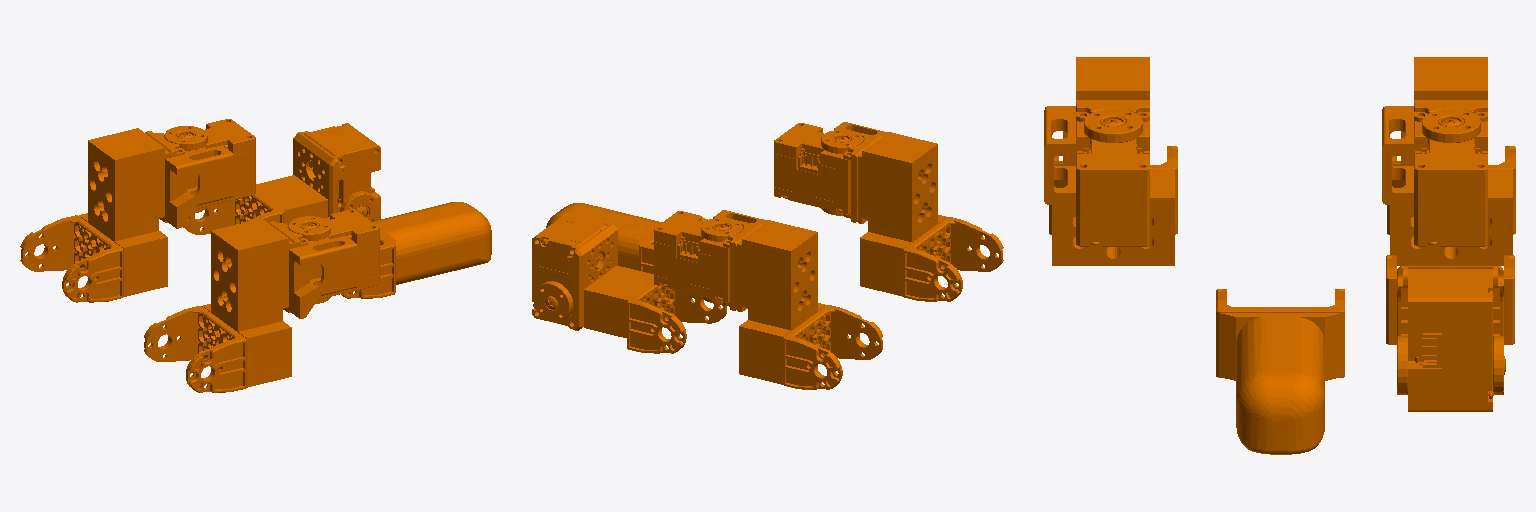
The robot description file, URDF, robot "onshape":
<robot name="onshape">
  <link name="palm_lower">
    <inertial>
      <origin xyz="0.0 0.0 0.0" rpy="0.0 -0.0 0.0"/>
      <mass value="0.237"/>
      <inertia ixx="0.000354094" ixy="-1.193e-06" ixz="-2.445e-06" iyy="0.000260915" iyz="-2.905e-06" izz="0.000529257"/>
    </inertial>
    <visual>
      <geometry>
        <mesh filename="../assets/leap/leap_hand/palm_lower.stl"/>
      </geometry>
      <origin xyz="-0.020095249652862544 0.025757756134899473 -0.034722403578460216" rpy="0.0 -0.0 0.0"/>
      <material name="palm_lower_material">
        <color rgba="0.6039215686274509 0.14901960784313725 0.14901960784313725 1.0"/>
      </material>
    </visual>
    <collision>
      <geometry>
        <mesh filename="../assets/leap/leap_hand/palm_lower.stl"/>
      </geometry>
      <origin xyz="-0.020095249652862544 0.025757756134899473 -0.034722403578460216" rpy="0.0 -0.0 0.0"/>
    </collision>
  </link>
  <link name="mcp_joint_long">
    <inertial>
      <origin xyz="0.0 0.0 0.0" rpy="0.0 -0.0 0.0"/>
      <mass value="0.044"/>
      <inertia ixx="1.1499e-05" ixy="3.049e-06" ixz="1.21e-07" iyy="7.796e-06" iyz="1.12e-07" izz="1.4759e-05"/>
    </inertial>
    <visual>
      <geometry>
        <mesh filename="custom_models/mcp_joint_long.stl"/>
      </geometry>
      <origin xyz="0.008406902261174496 0.0077662438597169954 0.014657354985032912" rpy="1.6375789613221e-15 -1.021047330249102e-30 1.7177968783327987e-31"/>
      <material name="mcp_joint_material">
        <color rgba="0.878 0.467 0.0 1.0"/>
      </material>
    </visual>
    <collision>
      <geometry>
        <mesh filename="custom_models/mcp_joint_long.stl"/>
      </geometry>
      <origin xyz="0.008406902261174496 0.0077662438597169954 0.014657354985032912" rpy="1.6375789613221e-15 -1.021047330249102e-30 1.7177968783327987e-31"/>
    </collision>
  </link>
  <link name="pip">
    <inertial>
      <origin xyz="0.0 0.0 0.0" rpy="0.0 -0.0 0.0"/>
      <mass value="0.032"/>
      <inertia ixx="4.798e-06" ixy="1.2e-08" ixz="4e-09" iyy="2.862e-06" iyz="1.1e-08" izz="4.234e-06"/>
    </inertial>
    <visual>
      <geometry>
        <mesh filename="../assets/leap/leap_hand/pip.stl"/>
      </geometry>
      <origin xyz="0.009643363092271328 0.0002999999999999895 0.0007840340104173765" rpy="-1.5707963267948966 -1.5707963267948963 0.0"/>
      <material name="pip_material">
        <color rgba="0.7490196078431373 0.7490196078431373 0.7490196078431373 1.0"/>
      </material>
    </visual>
    <collision>
      <geometry>
        <mesh filename="../assets/leap/leap_hand/pip.stl"/>
      </geometry>
      <origin xyz="0.009643363092271328 0.0002999999999999895 0.0007840340104173765" rpy="-1.5707963267948966 -1.5707963267948963 0.0"/>
    </collision>
  </link>
  <link name="dip_long">
    <inertial>
      <origin xyz="0.0 0.0 0.0" rpy="0.0 -0.0 0.0"/>
      <mass value="0.037"/>
      <inertia ixx="5.542e-06" ixy="-6.07e-07" ixz="-1.7e-08" iyy="5.727e-06" iyz="-2.3e-08" izz="6.682e-06"/>
    </inertial>
    <visual>
      <geometry>
        <mesh filename="custom_models/dip_long.stl"/>
      </geometry>
      <origin xyz="0.021133352895225003 -0.00843211914670488 0.00978508816209524" rpy="-3.141592653589793 4.507511124216441e-32 4.439548105392361e-32"/>
      <material name="dip_material">
        <color rgba="0.878 0.467 0.0 1.0"/>
      </material>
    </visual>
    <collision>
      <geometry>
        <mesh filename="custom_models/dip_long.stl"/>
      </geometry>
      <origin xyz="0.021133352895225003 -0.00843211914670488 0.00978508816209524" rpy="-3.141592653589793 4.507511124216441e-32 4.439548105392361e-32"/>
    </collision>
  </link>
  <link name="fingertip">
    <inertial>
      <origin xyz="0.0 0.0 0.0" rpy="0.0 -0.0 0.0"/>
      <mass value="0.016"/>
      <inertia ixx="3.368e-06" ixy="1.15e-07" ixz="0.0" iyy="1.556e-06" iyz="0.0" izz="2.863e-06"/>
    </inertial>
    <visual>
      <geometry>
        <mesh filename="../assets/leap/leap_hand/fingertip.stl"/>
      </geometry>
      <origin xyz="0.013286424108533503 -0.006114238386541987 0.014499999999999498" rpy="3.141592653589793 1.1993117970061735e-33 4.439548105392361e-32"/>
      <material name="fingertip_material">
        <color rgba="0.8666666666666667 0.8666666666666667 0.050980392156862744 1.0"/>
      </material>
    </visual>
    <collision>
      <geometry>
        <mesh filename="../assets/leap/leap_hand/fingertip.stl"/>
      </geometry>
      <origin xyz="0.013286424108533503 -0.006114238386541987 0.014499999999999498" rpy="3.141592653589793 1.1993117970061735e-33 4.439548105392361e-32"/>
    </collision>
  </link>
  <link name="pip_4">
    <inertial>
      <origin xyz="0.0 0.0 0.0" rpy="0.0 -0.0 0.0"/>
      <mass value="0.032"/>
      <inertia ixx="4.798e-06" ixy="1.2e-08" ixz="4e-09" iyy="2.862e-06" iyz="1.1e-08" izz="4.234e-06"/>
    </inertial>
    <visual>
      <geometry>
        <mesh filename="../assets/leap/leap_hand/pip.stl"/>
      </geometry>
      <origin xyz="-0.005356636907728671 0.0002999999999999999 0.0007840340104173782" rpy="-1.5707963267948966 -1.5707963267948963 0.0"/>
      <material name="pip_material">
        <color rgba="0.7490196078431373 0.7490196078431373 0.7490196078431373 1.0"/>
      </material>
    </visual>
    <collision>
      <geometry>
        <mesh filename="../assets/leap/leap_hand/pip.stl"/>
      </geometry>
      <origin xyz="-0.005356636907728671 0.0002999999999999999 0.0007840340104173782" rpy="-1.5707963267948966 -1.5707963267948963 0.0"/>
    </collision>
  </link>
  <link name="thumb_pip">
    <inertial>
      <origin xyz="0.0 0.0 0.0" rpy="0.0 -0.0 0.0"/>
      <mass value="0.003"/>
      <inertia ixx="5.93e-07" ixy="0.0" ixz="0.0" iyy="5.49e-07" iyz="0.0" izz="2.24e-07"/>
    </inertial>
    <visual>
      <geometry>
        <mesh filename="../assets/leap/leap_hand/thumb_pip.stl"/>
      </geometry>
      <origin xyz="0.011961920770611187 -5.30825383648903e-16 -0.0158526489566642" rpy="1.5707963267948966 1.6050198443300153e-46 -3.9204996250525193e-59"/>
      <material name="thumb_pip_material">
        <color rgba="0.8666666666666667 0.8666666666666667 0.050980392156862744 1.0"/>
      </material>
    </visual>
    <collision>
      <geometry>
        <mesh filename="../assets/leap/leap_hand/thumb_pip.stl"/>
      </geometry>
      <origin xyz="0.011961920770611187 -5.30825383648903e-16 -0.0158526489566642" rpy="1.5707963267948966 1.6050198443300153e-46 -3.9204996250525193e-59"/>
    </collision>
  </link>
  <link name="thumb_dip">
    <inertial>
      <origin xyz="0.0 0.0 0.0" rpy="0.0 -0.0 0.0"/>
      <mass value="0.038"/>
      <inertia ixx="8.474e-06" ixy="2.41e-07" ixz="2.6e-08" iyy="3.841e-06" iyz="2.5e-08" izz="7.679e-06"/>
    </inertial>
    <visual>
      <geometry>
        <mesh filename="../assets/leap/leap_hand/thumb_dip.stl"/>
      </geometry>
      <origin xyz="0.043968715707239175 0.0579529529737092 -0.008628676449369476" rpy="1.94289029309401e-16 3.27515792264422e-15 1.112375852965736e-46"/>
      <material name="thumb_dip_material">
        <color rgba="0.8666666666666667 0.8666666666666667 0.050980392156862744 1.0"/>
      </material>
    </visual>
    <collision>
      <geometry>
        <mesh filename="../assets/leap/leap_hand/thumb_dip.stl"/>
      </geometry>
      <origin xyz="0.043968715707239175 0.0579529529737092 -0.008628676449369476" rpy="1.94289029309401e-16 3.27515792264422e-15 1.112375852965736e-46"/>
    </collision>
  </link>
  <link name="thumb_fingertip">
    <inertial>
      <origin xyz="0.0 0.0 0.0" rpy="0.0 -0.0 0.0"/>
      <mass value="0.049"/>
      <inertia ixx="2.0372e-05" ixy="-4.89e-07" ixz="-3e-08" iyy="4.336e-06" iyz="-9.7e-08" izz="1.9845e-05"/>
    </inertial>
    <visual>
      <geometry>
        <mesh filename="../assets/leap/leap_hand/thumb_fingertip.stl"/>
      </geometry>
      <origin xyz="0.06255953846266739 0.07845968291139699 0.048992911807332215" rpy="4.379057701015637e-47 -3.33066907387547e-16 1.2042408677791935e-46"/>
      <material name="thumb_fingertip_material">
        <color rgba="0.6039215686274509 0.14901960784313725 0.14901960784313725 1.0"/>
      </material>
    </visual>
    <collision>
      <geometry>
        <mesh filename="../assets/leap/leap_hand/thumb_fingertip.stl"/>
      </geometry>
      <origin xyz="0.06255953846266739 0.07845968291139699 0.048992911807332215" rpy="4.379057701015637e-47 -3.33066907387547e-16 1.2042408677791935e-46"/>
    </collision>
  </link>
  <link name="mcp_joint_2">
    <inertial>
      <origin xyz="0.0 0.0 0.0" rpy="0.0 -0.0 0.0"/>
      <mass value="0.044"/>
      <inertia ixx="1.1499e-05" ixy="3.049e-06" ixz="1.21e-07" iyy="7.796e-06" iyz="1.12e-07" izz="1.4759e-05"/>
    </inertial>
    <visual>
      <geometry>
        <mesh filename="../assets/leap/leap_hand/mcp_joint.stl"/>
      </geometry>
      <origin xyz="0.008406902261174496 0.0077662438597169954 0.014657354985032914" rpy="1.6375789613221e-15 -1.0076465469034e-30 2.1209300131419907e-61"/>
      <material name="mcp_joint_material">
        <color rgba="0.8666666666666667 0.8666666666666667 0.050980392156862744 1.0"/>
      </material>
    </visual>
    <collision>
      <geometry>
        <mesh filename="../assets/leap/leap_hand/mcp_joint.stl"/>
      </geometry>
      <origin xyz="0.008406902261174496 0.0077662438597169954 0.014657354985032914" rpy="1.6375789613221e-15 -1.0076465469034e-30 2.1209300131419907e-61"/>
    </collision>
  </link>
  <link name="pip_2">
    <inertial>
      <origin xyz="0.0 0.0 0.0" rpy="0.0 -0.0 0.0"/>
      <mass value="0.032"/>
      <inertia ixx="4.798e-06" ixy="1.2e-08" ixz="4e-09" iyy="2.862e-06" iyz="1.1e-08" izz="4.234e-06"/>
    </inertial>
    <visual>
      <geometry>
        <mesh filename="../assets/leap/leap_hand/pip.stl"/>
      </geometry>
      <origin xyz="0.009643363092271328 0.0002999999999999947 0.0007840340104173765" rpy="-1.5707963267948966 -1.5707963267948963 0.0"/>
      <material name="pip_material">
        <color rgba="0.7490196078431373 0.7490196078431373 0.7490196078431373 1.0"/>
      </material>
    </visual>
    <collision>
      <geometry>
        <mesh filename="../assets/leap/leap_hand/pip.stl"/>
      </geometry>
      <origin xyz="0.009643363092271328 0.0002999999999999947 0.0007840340104173765" rpy="-1.5707963267948966 -1.5707963267948963 0.0"/>
    </collision>
  </link>
  <link name="dip_2">
    <inertial>
      <origin xyz="0.0 0.0 0.0" rpy="0.0 -0.0 0.0"/>
      <mass value="0.037"/>
      <inertia ixx="5.542e-06" ixy="-6.07e-07" ixz="-1.7e-08" iyy="5.727e-06" iyz="-2.3e-08" izz="6.682e-06"/>
    </inertial>
    <visual>
      <geometry>
        <mesh filename="../assets/leap/leap_hand/dip.stl"/>
      </geometry>
      <origin xyz="0.021133352895225003 -0.008432119146704865 0.009785088162095237" rpy="-3.141592653589793 2.1146933785271956e-32 1.4408183216511869e-31"/>
      <material name="dip_material">
        <color rgba="0.8666666666666667 0.8666666666666667 0.050980392156862744 1.0"/>
      </material>
    </visual>
    <collision>
      <geometry>
        <mesh filename="../assets/leap/leap_hand/dip.stl"/>
      </geometry>
      <origin xyz="0.021133352895225003 -0.008432119146704865 0.009785088162095237" rpy="-3.141592653589793 2.1146933785271956e-32 1.4408183216511869e-31"/>
    </collision>
  </link>
  <link name="fingertip_2_long">
    <inertial>
      <origin xyz="0.0 0.0 0.0" rpy="0.0 -0.0 0.0"/>
      <mass value="0.016"/>
      <inertia ixx="3.368e-06" ixy="1.15e-07" ixz="0.0" iyy="1.556e-06" iyz="0.0" izz="2.863e-06"/>
    </inertial>
    <visual>
      <geometry>
        <mesh filename="custom_models/fingertip_long.stl"/>
      </geometry>
      <origin xyz="0.013286424108533496 -0.006114238386542001 0.014499999999999496" rpy="3.141592653589793 -4.317959788283594e-33 1.4408183216511869e-31"/>
      <material name="fingertip_material">
        <color rgba="0.878 0.467 0.0 1.0"/>
      </material>
    </visual>
    <collision>
      <geometry>
        <mesh filename="custom_models/fingertip_long.stl"/>
      </geometry>
      <origin xyz="0.013286424108533496 -0.006114238386542001 0.014499999999999496" rpy="3.141592653589793 -4.317959788283594e-33 1.4408183216511869e-31"/>
    </collision>
  </link>
  <link name="mcp_joint_3_long">
    <inertial>
      <origin xyz="0.0 0.0 0.0" rpy="0.0 -0.0 0.0"/>
      <mass value="0.044"/>
      <inertia ixx="1.1499e-05" ixy="3.049e-06" ixz="1.21e-07" iyy="7.796e-06" iyz="1.12e-07" izz="1.4759e-05"/>
    </inertial>
    <visual>
      <geometry>
        <mesh filename="custom_models/mcp_joint_long.stl"/>
      </geometry>
      <origin xyz="0.0084069022611745 0.007766243859716996 0.014657354985032914" rpy="1.6375789613221e-15 -1.0059504988632627e-30 5.729641584552035e-32"/>
      <material name="mcp_joint_material">
        <color rgba="0.878 0.467 0.0 1.0"/>
      </material>
    </visual>
    <collision>
      <geometry>
        <mesh filename="custom_models/mcp_joint_long.stl"/>
      </geometry>
      <origin xyz="0.0084069022611745 0.007766243859716996 0.014657354985032914" rpy="1.6375789613221e-15 -1.0059504988632627e-30 5.729641584552035e-32"/>
    </collision>
  </link>
  <link name="pip_3">
    <inertial>
      <origin xyz="0.0 0.0 0.0" rpy="0.0 -0.0 0.0"/>
      <mass value="0.032"/>
      <inertia ixx="4.798e-06" ixy="1.2e-08" ixz="4e-09" iyy="2.862e-06" iyz="1.1e-08" izz="4.234e-06"/>
    </inertial>
    <visual>
      <geometry>
        <mesh filename="../assets/leap/leap_hand/pip.stl"/>
      </geometry>
      <origin xyz="0.009643363092271331 0.00029999999999998084 0.0007840340104173765" rpy="-1.5707963267948966 -1.5707963267948963 0.0"/>
      <material name="pip_material">
        <color rgba="0.7490196078431373 0.7490196078431373 0.7490196078431373 1.0"/>
      </material>
    </visual>
    <collision>
      <geometry>
        <mesh filename="../assets/leap/leap_hand/pip.stl"/>
      </geometry>
      <origin xyz="0.009643363092271331 0.00029999999999998084 0.0007840340104173765" rpy="-1.5707963267948966 -1.5707963267948963 0.0"/>
    </collision>
  </link>
  <link name="dip_3">
    <inertial>
      <origin xyz="0.0 0.0 0.0" rpy="0.0 -0.0 0.0"/>
      <mass value="0.037"/>
      <inertia ixx="5.542e-06" ixy="-6.07e-07" ixz="-1.7e-08" iyy="5.727e-06" iyz="-2.3e-08" izz="6.682e-06"/>
    </inertial>
    <visual>
      <geometry>
        <mesh filename="../assets/leap/leap_hand/dip.stl"/>
      </geometry>
      <origin xyz="0.021133352895225006 -0.008432119146704865 0.009785088162095237" rpy="-3.141592653589793 -1.4095651113919093e-33 1.5565411607615035e-32"/>
      <material name="dip_material">
        <color rgba="0.8666666666666667 0.8666666666666667 0.050980392156862744 1.0"/>
      </material>
    </visual>
    <collision>
      <geometry>
        <mesh filename="../assets/leap/leap_hand/dip.stl"/>
      </geometry>
      <origin xyz="0.021133352895225006 -0.008432119146704865 0.009785088162095237" rpy="-3.141592653589793 -1.4095651113919093e-33 1.5565411607615035e-32"/>
    </collision>
  </link>
  <link name="fingertip_3">
    <inertial>
      <origin xyz="0.0 0.0 0.0" rpy="0.0 -0.0 0.0"/>
      <mass value="0.016"/>
      <inertia ixx="3.368e-06" ixy="1.15e-07" ixz="0.0" iyy="1.556e-06" iyz="0.0" izz="2.863e-06"/>
    </inertial>
    <visual>
      <geometry>
        <mesh filename="../assets/leap/leap_hand/fingertip.stl"/>
      </geometry>
      <origin xyz="0.013286424108533501 -0.006114238386541987 0.0144999999999995" rpy="3.141592653589793 8.61707169505754e-33 1.5565411607615035e-32"/>
      <material name="fingertip_material">
        <color rgba="0.8666666666666667 0.8666666666666667 0.050980392156862744 1.0"/>
      </material>
    </visual>
    <collision>
      <geometry>
        <mesh filename="../assets/leap/leap_hand/fingertip.stl"/>
      </geometry>
      <origin xyz="0.013286424108533501 -0.006114238386541987 0.0144999999999995" rpy="3.141592653589793 8.61707169505754e-33 1.5565411607615035e-32"/>
    </collision>
  </link>
  <joint name="1" type="revolute">
    <parent link="palm_lower"/>
    <child link="mcp_joint_long"/>
    <origin xyz="-0.007095249652862546 0.023057756134899472 -0.01872240357846022" rpy="1.570796326794895 1.5707963267948946 0.0"/>
    <axis xyz="0.0 0.0 -1.0"/>
    <limit effort="0.95" velocity="8.48" lower="-0.314" upper="2.23"/>
  </joint>
  <joint name="0" type="revolute">
    <parent link="mcp_joint_long"/>
    <child link="pip"/>
    <origin xyz="-0.012200000000000007713 0.053099999999999994982 0.014500000000000000736" rpy="-1.5707963267948966 -1.0065212660796337e-15 1.5707963267948943"/>
    <axis xyz="0.0 0.0 -1.0"/>
    <limit effort="0.95" velocity="8.48" lower="-1.047" upper="1.047"/>
  </joint>
  <joint name="2" type="revolute">
    <parent link="pip"/>
    <child link="dip_long"/>
    <origin xyz="0.014999999999999968 0.014299999999999905 -0.012999999999999824" rpy="1.570796326794896 -1.5707963267948963 0.0"/>
    <axis xyz="0.0 0.0 -1.0"/>
    <limit effort="0.95" velocity="8.48" lower="-0.506" upper="1.885"/>
  </joint>
  <joint name="3" type="revolute">
    <parent link="dip_long"/>
    <child link="fingertip"/>
    <origin xyz="-4.0880582495572692636e-09 -0.051100004210367367397 0.00020000000000007858714" rpy="4.5935029425113685e-17 -2.8730071914463795e-16 4.439548105392361e-32"/>
    <axis xyz="0.0 0.0 -1.0"/>
    <limit effort="0.95" velocity="8.48" lower="-0.366" upper="2.042"/>
  </joint>
  <joint name="12" type="revolute">
    <parent link="palm_lower"/>
    <child link="pip_4"/>
    <origin xyz="-0.06939524965286253 -0.0012422438651005258 -0.021622403578460216" rpy="-8.238176646493942e-17 1.5707963267948957 0.0"/>
    <axis xyz="0.0 0.0 -1.0"/>
    <limit effort="0.95" velocity="8.48" lower="-0.349" upper="2.094"/>
  </joint>
  <joint name="13" type="revolute">
    <parent link="pip_4"/>
    <child link="thumb_pip"/>
    <origin xyz="-2.7755575615628914e-17 0.014300000000000005 -0.013000000000000012" rpy="1.570796326794896 -1.5707963267948963 0.0"/>
    <axis xyz="0.0 0.0 -1.0"/>
    <limit effort="0.95" velocity="8.48" lower="-0.47" upper="2.443"/>
  </joint>
  <joint name="14" type="revolute">
    <parent link="thumb_pip"/>
    <child link="thumb_dip"/>
    <origin xyz="0.0 0.014499999999999966 -0.017000000000000053" rpy="-1.5707963267948966 1.6050198443300131e-46 -1.9721522630516625e-31"/>
    <axis xyz="0.0 0.0 -1.0"/>
    <limit effort="0.95" velocity="8.48" lower="-1.2" upper="1.9"/>
  </joint>
  <joint name="15" type="revolute">
    <parent link="thumb_dip"/>
    <child link="thumb_fingertip"/>
    <origin xyz="-1.249000902703301e-16 0.046599999999999864 0.0001999999999999771" rpy="1.506395849149178e-44 5.423418723393526e-31 3.141592653589793"/>
    <axis xyz="0.0 0.0 -1.0"/>
    <limit effort="0.95" velocity="8.48" lower="-1.34" upper="1.88"/>
  </joint>
  <joint name="5" type="revolute">
    <parent link="palm_lower"/>
    <child link="mcp_joint_2"/>
    <origin xyz="-0.007095249652862546 -0.022392243865100525 -0.01872240357846022" rpy="1.570796326794895 1.5707963267948946 0.0"/>
    <axis xyz="0.0 0.0 -1.0"/>
    <limit effort="0.95" velocity="8.48" lower="-0.314" upper="2.23"/>
  </joint>
  <joint name="4" type="revolute">
    <parent link="mcp_joint_2"/>
    <child link="pip_2"/>
    <origin xyz="-0.012200000000000008 0.038099999999999995 0.0145" rpy="-1.5707963267948966 -1.0065212660796337e-15 1.5707963267948943"/>
    <axis xyz="0.0 0.0 -1.0"/>
    <limit effort="0.95" velocity="8.48" lower="-1.047" upper="1.047"/>
  </joint>
  <joint name="6" type="revolute">
    <parent link="pip_2"/>
    <child link="dip_2"/>
    <origin xyz="0.014999999999999968 0.014299999999999905 -0.012999999999999824" rpy="1.570796326794896 -1.5707963267948963 0.0"/>
    <axis xyz="0.0 0.0 -1.0"/>
    <limit effort="0.95" velocity="8.48" lower="-0.506" upper="1.885"/>
  </joint>
  <joint name="7" type="revolute">
    <parent link="dip_2"/>
    <child link="fingertip_2_long"/>
    <origin xyz="-4.088058249557269e-09 -0.03610000421036737 0.0002000000000000786" rpy="4.5935029425113685e-17 -2.8730071914463795e-16 4.439548105392361e-32"/>
    <axis xyz="0.0 0.0 -1.0"/>
    <limit effort="0.95" velocity="8.48" lower="-0.366" upper="2.042"/>
  </joint>
  <joint name="9" type="revolute">
    <parent link="palm_lower"/>
    <child link="mcp_joint_3_long"/>
    <origin xyz="-0.007095249652862546 -0.06784224386510052 -0.01872240357846022" rpy="1.570796326794895 1.5707963267948946 0.0"/>
    <axis xyz="0.0 0.0 -1.0"/>
    <limit effort="0.95" velocity="8.48" lower="-0.314" upper="2.23"/>
  </joint>
  <joint name="8" type="revolute">
    <parent link="mcp_joint_3_long"/>
    <child link="pip_3"/>
    <origin xyz="-0.012200000000000007713 0.053099999999999994982 0.014500000000000000736" rpy="-1.5707963267948966 -1.0065212660796337e-15 1.5707963267948943"/>
    <axis xyz="0.0 0.0 -1.0"/>
    <limit effort="0.95" velocity="8.48" lower="-1.047" upper="1.047"/>
  </joint>
  <joint name="10" type="revolute">
    <parent link="pip_3"/>
    <child link="dip_3"/>
    <origin xyz="0.014999999999999968 0.014299999999999905 -0.012999999999999824" rpy="1.570796326794896 -1.5707963267948963 0.0"/>
    <axis xyz="0.0 0.0 -1.0"/>
    <limit effort="0.95" velocity="8.48" lower="-0.506" upper="1.885"/>
  </joint>
  <joint name="11" type="revolute">
    <parent link="dip_3"/>
    <child link="fingertip_3"/>
    <origin xyz="-4.088058249557269e-09 -0.03610000421036737 0.0002000000000000786" rpy="4.5935029425113685e-17 -2.8730071914463795e-16 4.439548105392361e-32"/>
    <axis xyz="0.0 0.0 -1.0"/>
    <limit effort="0.95" velocity="8.48" lower="-0.366" upper="2.042"/>
  </joint>
</robot>

--- Render facts (derived) ---
3 views of the same robot in one strip: view 1: azimuth 30°, elevation 25°; view 2: azimuth 150°, elevation 25°; view 3: azimuth 270°, elevation 25° (orthographic).
Model onshape with 17 links and 16 joints (16 revolute), rooted at palm_lower, posed all joints at 0.
Links seen in each view (by area): view 1: mcp_joint_3_long, mcp_joint_long, dip_long, fingertip_2_long; view 2: mcp_joint_long, mcp_joint_3_long, dip_long, fingertip_2_long; view 3: mcp_joint_3_long, mcp_joint_long, dip_long, fingertip_2_long.
Link boxes in pixels (x1=…): mcp_joint_3_long: x1=144, y1=209, x2=379, y2=392; mcp_joint_long: x1=20, y1=119, x2=255, y2=302; dip_long: x1=183, y1=123, x2=380, y2=234; fingertip_2_long: x1=326, y1=202, x2=491, y2=298; mcp_joint_long: x1=654, y1=210, x2=882, y2=389; mcp_joint_3_long: x1=774, y1=122, x2=1003, y2=301; dip_long: x1=532, y1=215, x2=726, y2=353; fingertip_2_long: x1=546, y1=203, x2=707, y2=273; mcp_joint_3_long: x1=1044, y1=57, x2=1177, y2=265; mcp_joint_long: x1=1382, y1=57, x2=1515, y2=265; dip_long: x1=1386, y1=255, x2=1514, y2=411; fingertip_2_long: x1=1216, y1=289, x2=1344, y2=454.
Bounding box of the posed robot: 0.1616 × 0.1267 × 0.0549 m (x, y, z).
4 mesh visuals loaded from 11 distinct referenced files (3 binary STL); not drawn: 13 (reference not matched to a file when rendering).